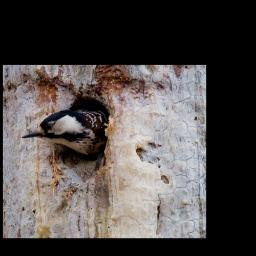Woodpecker: (22, 105, 107, 157)
